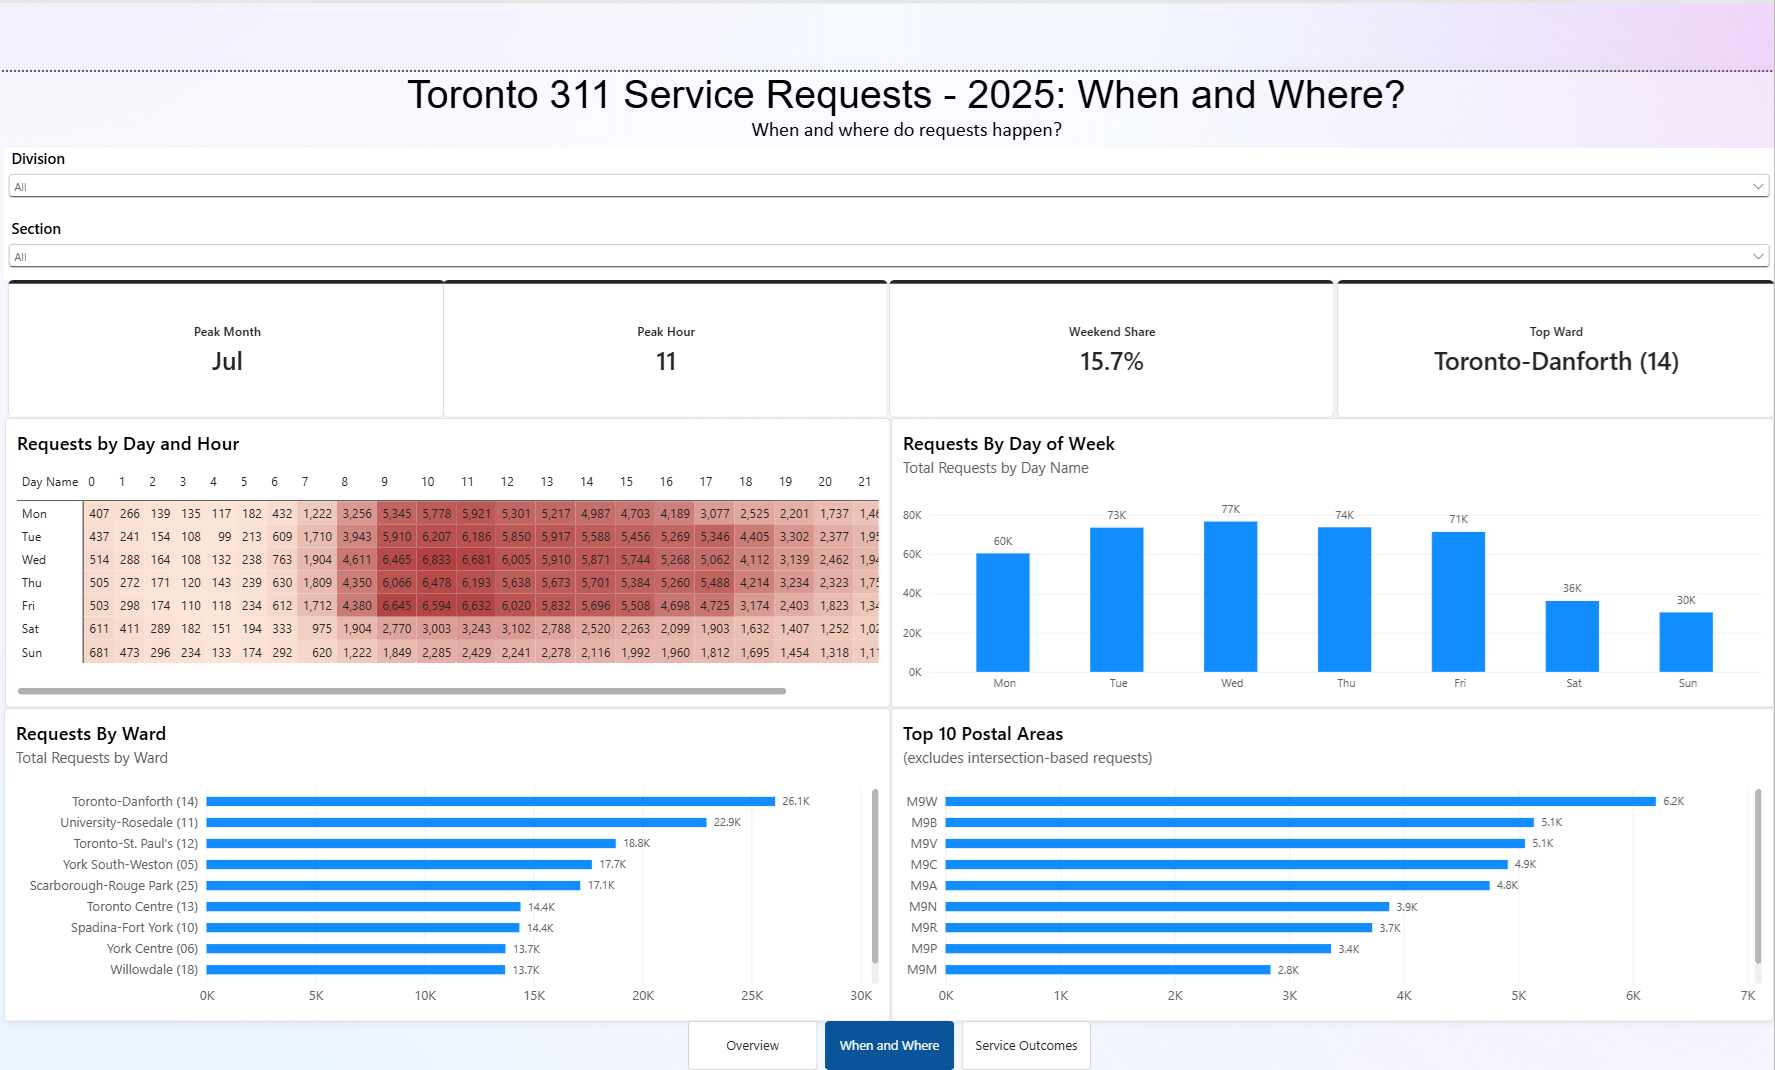

The dashboard page shown, as its layout file describes it:
{"tool":"powerbi","page":{"name":"When and Where","canvas":[1920,1080],"ordinal":1},"visuals":[{"type":"textbox","box":[416.5,0,1130.4,91.9],"z":0},{"type":"slicer","fields":{"Values":["311 Request.Division"]},"box":[5.4,82.2,1914.6,75.7],"z":1},{"type":"slicer","fields":{"Values":["311 Request.Section"]},"box":[5.4,157.9,1914.6,67.1],"z":2},{"type":"cardVisual","fields":{"Data":["Measures (2).Peak Month"]},"box":[9.7,225,473.1,149.2],"z":3},{"type":"cardVisual","fields":{"Data":["Measures (2).Peak Hour"]},"box":[480.3,225,482,149.2],"z":4},{"type":"cardVisual","fields":{"Data":["Measures (2).Weekend Share"]},"box":[962.7,225,482,149.2],"z":6},{"type":"cardVisual","fields":{"Data":["Measures (2).Top Ward"]},"box":[1447.3,225,473.1,149.2],"z":7},{"type":"pivotTable","title":"Requests by Day and Hour","fields":{"Columns":["311 Request.Hour"],"Rows":["Date Table.Day Name"],"Values":["Measures (2).Total Requests"]},"box":[6.5,374.3,958.4,312.6],"z":8},{"type":"clusteredColumnChart","title":"Requests By Day of Week","fields":{"Category":["Date Table.Day Name"],"Y":["Measures (2).Total Requests"]},"box":[964.9,374.3,955.1,312.6],"z":9},{"type":"clusteredBarChart","title":"Requests By Ward","fields":{"Category":["311 Request.Ward"],"Y":["Measures (2).Total Requests"]},"box":[5.4,688,959.5,338.6],"z":10},{"type":"clusteredBarChart","title":"Top 10 Postal Areas","fields":{"Category":["311 Request.First 3 Chars of Postal Code"],"Y":["Measures (2).Total Requests"]},"box":[964.9,688,955.1,338.6],"z":11},{"type":"pageNavigator","box":[745.3,1026.5,438,53],"z":14}]}

Visuals, with their boxes on the page's 1920x1080 design canvas (x1, y1, x2, y2). These are canvas units, not pixel positions in the 1775x1070 screenshot, which may show the page scaled, cropped or inside an application window:
textbox: [x1=416, y1=0, x2=1547, y2=92]
slicer - 311 Request.Division: [x1=5, y1=82, x2=1920, y2=158]
slicer - 311 Request.Section: [x1=5, y1=158, x2=1920, y2=225]
cardVisual - Measures (2).Peak Month: [x1=10, y1=225, x2=483, y2=374]
cardVisual - Measures (2).Peak Hour: [x1=480, y1=225, x2=962, y2=374]
cardVisual - Measures (2).Weekend Share: [x1=963, y1=225, x2=1445, y2=374]
cardVisual - Measures (2).Top Ward: [x1=1447, y1=225, x2=1920, y2=374]
"Requests by Day and Hour" pivotTable: [x1=6, y1=374, x2=965, y2=687]
"Requests By Day of Week" clusteredColumnChart: [x1=965, y1=374, x2=1920, y2=687]
"Requests By Ward" clusteredBarChart: [x1=5, y1=688, x2=965, y2=1027]
"Top 10 Postal Areas" clusteredBarChart: [x1=965, y1=688, x2=1920, y2=1027]
pageNavigator: [x1=745, y1=1026, x2=1183, y2=1080]
